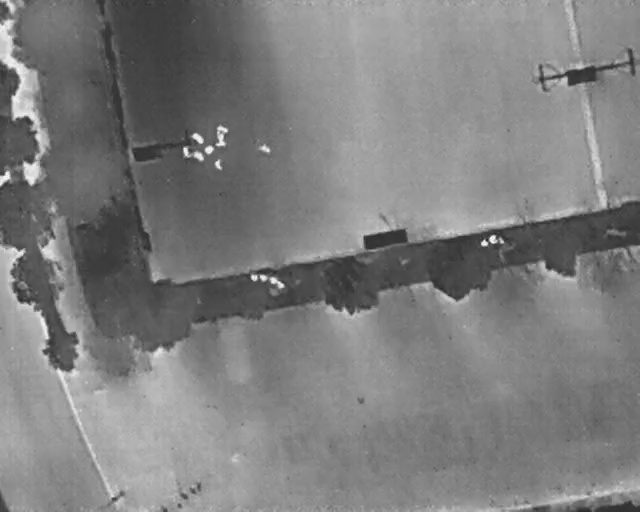Person: (190, 130, 205, 146), (216, 133, 226, 148), (258, 143, 271, 154), (193, 150, 204, 162), (204, 144, 214, 155), (182, 146, 191, 158), (217, 124, 228, 133), (215, 159, 223, 171)
